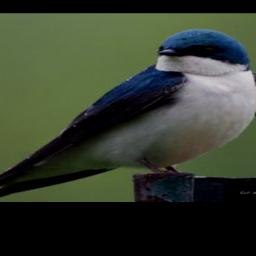Swallow: (0, 27, 256, 201)
